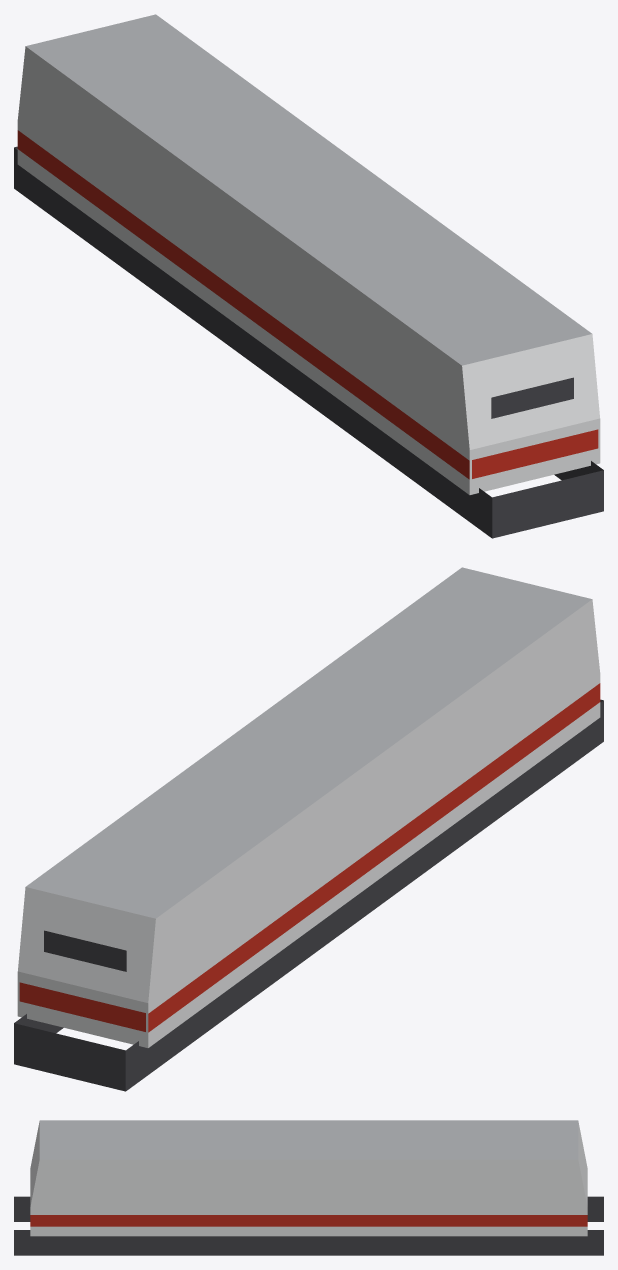
Rendered from 2_far.fbx.
3 views of the same model, one above another, from view 1: azimuth 30°, elevation 25°; view 2: azimuth 150°, elevation 25°; view 3: azimuth 270°, elevation 25° (orthographic). The views are drawn at different scales.
Visible parts, largest first — view 1: 22_2_far; view 2: 22_2_far; view 3: 22_2_far.
Boxes of the visible parts, box(x1,y1,x2,y2) form: 22_2_far: box(14, 14, 603, 538); 22_2_far: box(14, 567, 603, 1091); 22_2_far: box(14, 1120, 603, 1255).
Bounding box in the file's own units: 3.16 × 3.69 × 20.
